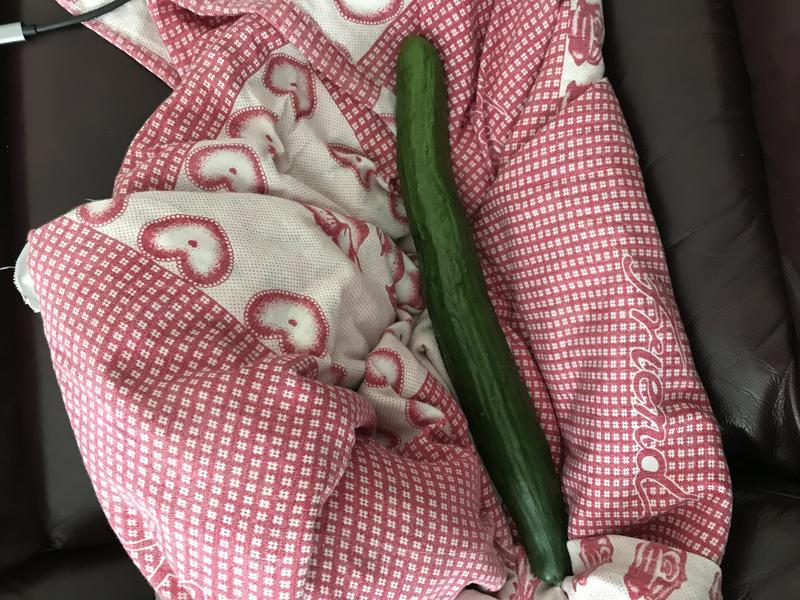cucumber: (387, 29, 600, 595)
